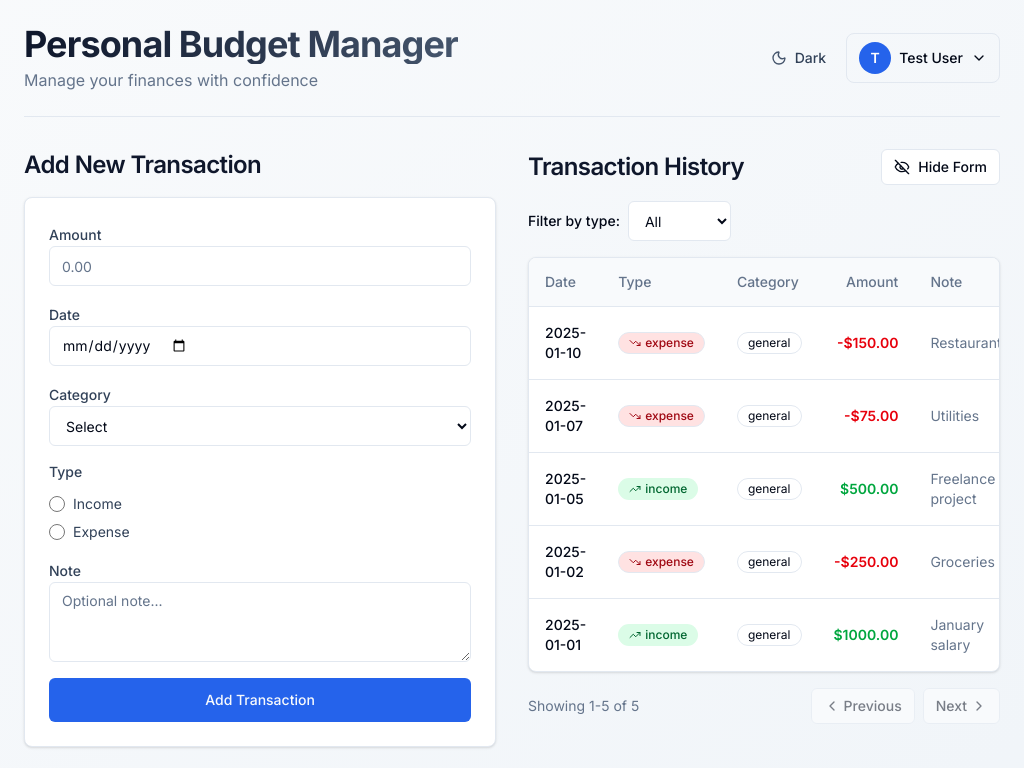
TransactionManager › Authenticated state › can toggle form visibility
This screenshot has width=1024, height=768.
Check: the number field labelled "Amount" is shown, box [49, 246, 471, 286]
# Click hide form button
Click the button "Hide Form" at (941, 167), box [881, 149, 1000, 185]
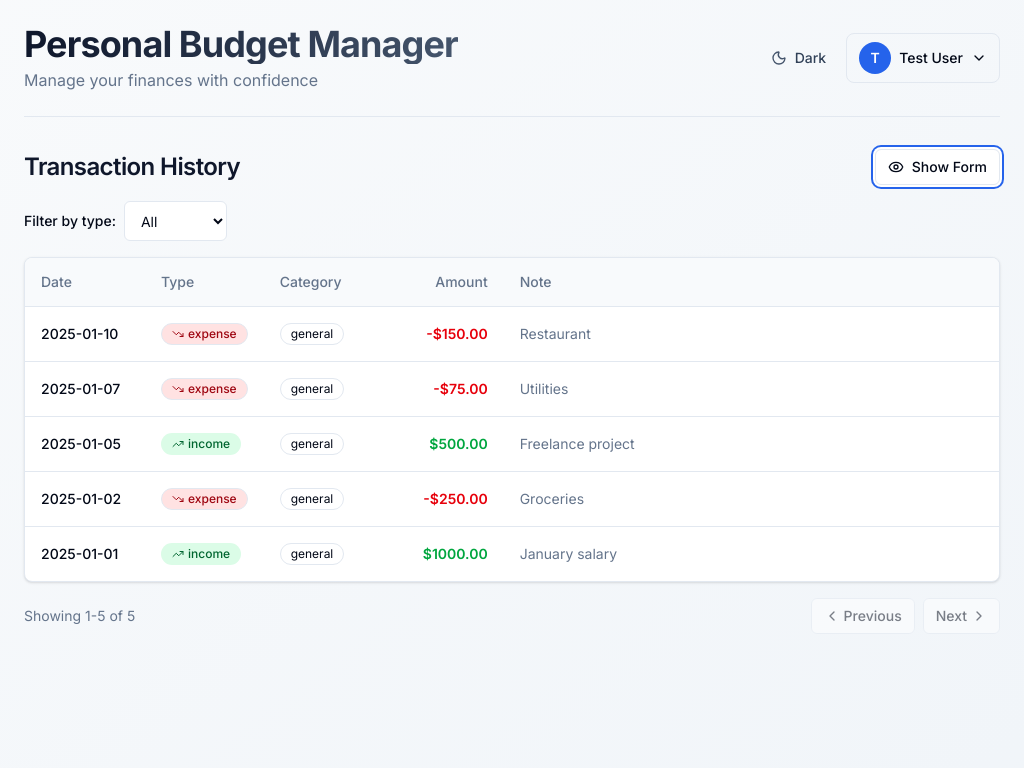
Check: the button "Show Form" is shown
# Click show form button
Click the button "Show Form" at (937, 167), box [875, 149, 1000, 185]
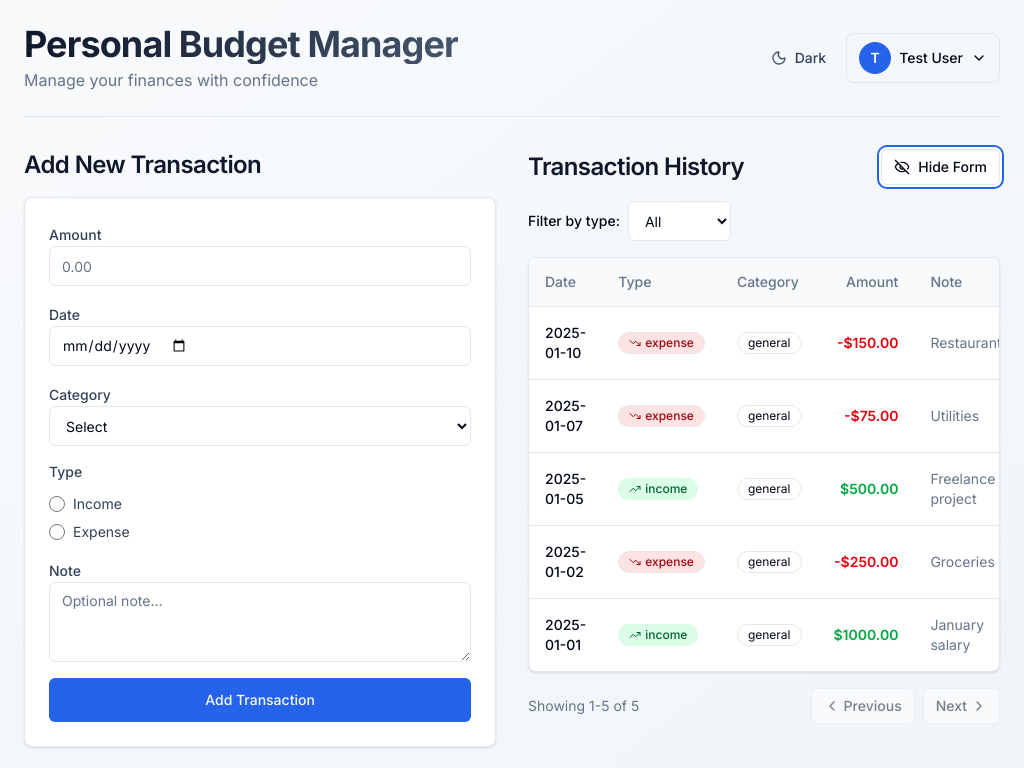
Check: the number field labelled "Amount" is shown, box [49, 246, 471, 286]
